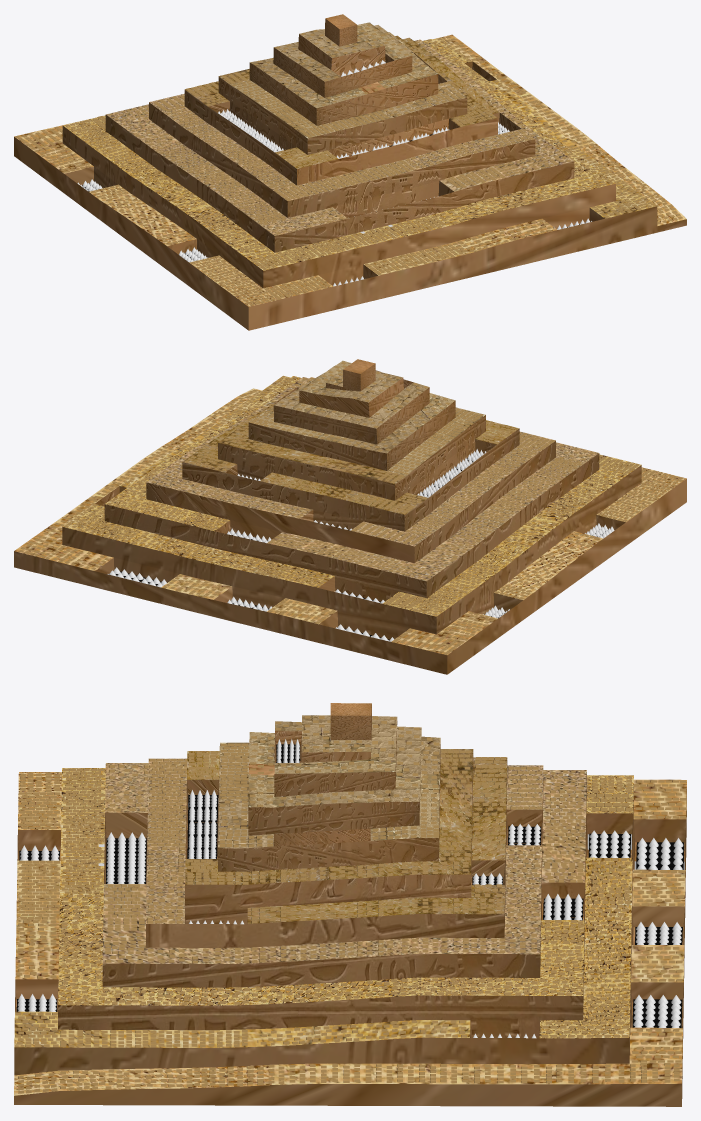
File: piramide 1.fbx
The picture shows the model from 3 angles, top to bottom: view 1: azimuth 30°, elevation 25°; view 2: azimuth 150°, elevation 25°; view 3: azimuth 270°, elevation 25°; orthographic projection. The views are drawn at different scales.
Visible parts, largest first — view 1: completo; view 2: completo; view 3: completo.
Boxes of the visible parts, x1=… form: completo: x1=14, y1=14, x2=686, y2=330; completo: x1=14, y1=359, x2=686, y2=674; completo: x1=14, y1=703, x2=686, y2=1106.
Bounding box in the file's own units: 130 × 48.35 × 123.
101 materials, 66 textured.
